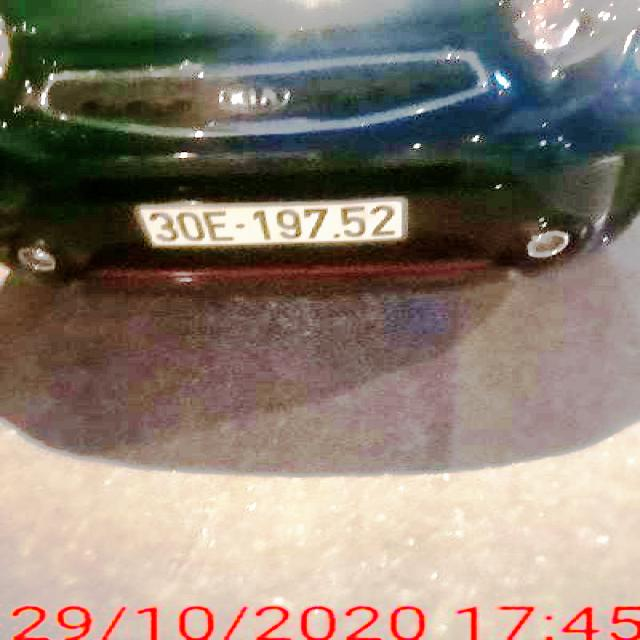license_plate: (139, 198, 407, 246)
